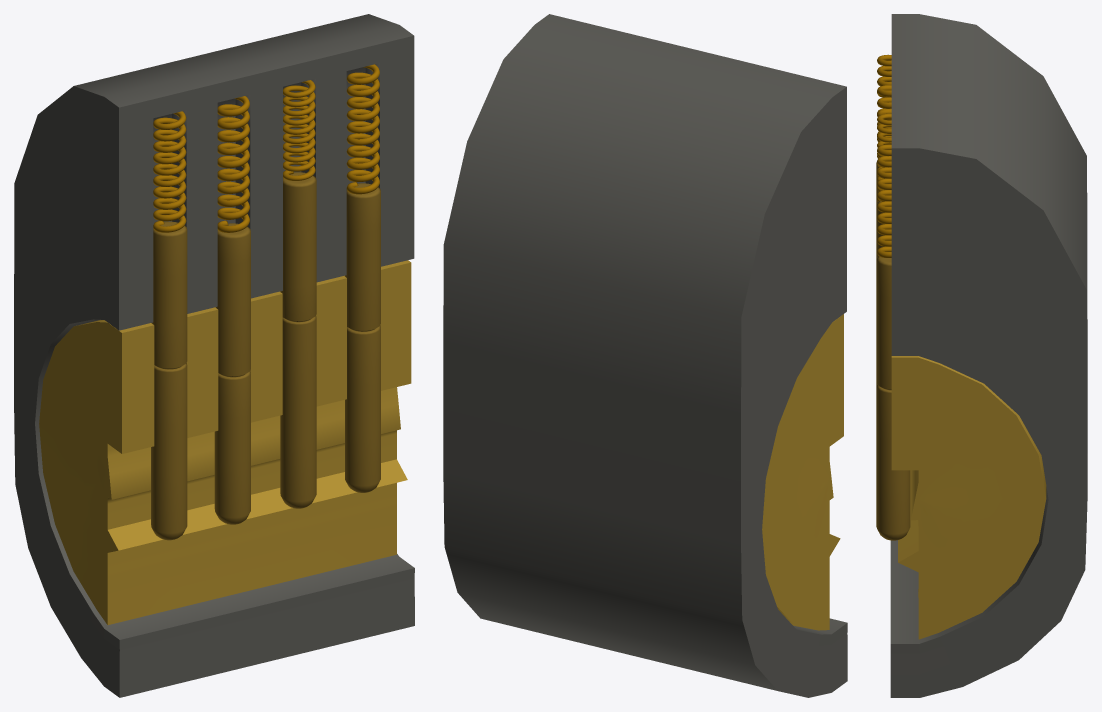
The model's file is Lock.fbx.
The picture shows the model from 3 angles, left to right: view 1: azimuth 30°, elevation 25°; view 2: azimuth 150°, elevation 25°; view 3: azimuth 270°, elevation 25°; orthographic projection. The views are drawn at different scales.
Parts seen in each view (by area): view 1: mesh_outerCasing, mesh_innerTumbler, mesh_pin3bottom, mesh_pin1bottom, mesh_pin4bottom, mesh_pin2bottom, mesh_pin2top, mesh_pin3top, mesh_pin1top, mesh_pin4top, mesh_spring2, mesh_spring4 (+2 smaller); view 2: mesh_outerCasing, mesh_innerTumbler; view 3: mesh_outerCasing, mesh_innerTumbler, mesh_pin4bottom, mesh_pin4top, mesh_spring4, mesh_spring3, mesh_spring1, mesh_spring2.
Boxes of the visible parts, x1,y1,x2,y2 form: mesh_outerCasing: (14,14,414,697); mesh_innerTumbler: (39,260,411,624); mesh_pin3bottom: (280,315,316,508); mesh_pin1bottom: (151,363,187,540); mesh_pin4bottom: (345,325,380,492); mesh_pin2bottom: (214,370,250,524); mesh_pin2top: (215,223,250,377); mesh_pin3top: (280,172,316,322); mesh_pin1top: (151,221,187,369); mesh_pin4top: (345,183,380,331); mesh_spring2: (217,96,249,232); mesh_spring4: (346,64,379,194); mesh_outerCasing: (443,14,847,697); mesh_innerTumbler: (762,314,843,630); mesh_outerCasing: (890,14,1087,697); mesh_innerTumbler: (891,356,1046,639); mesh_pin4bottom: (876,384,910,540); mesh_pin4top: (876,256,891,390); mesh_spring4: (877,144,891,257); mesh_spring3: (877,113,891,201); mesh_spring1: (877,54,891,158); mesh_spring2: (877,85,891,201).
Size of the model in its own units: 2.04 by 3.9 by 1.36.
